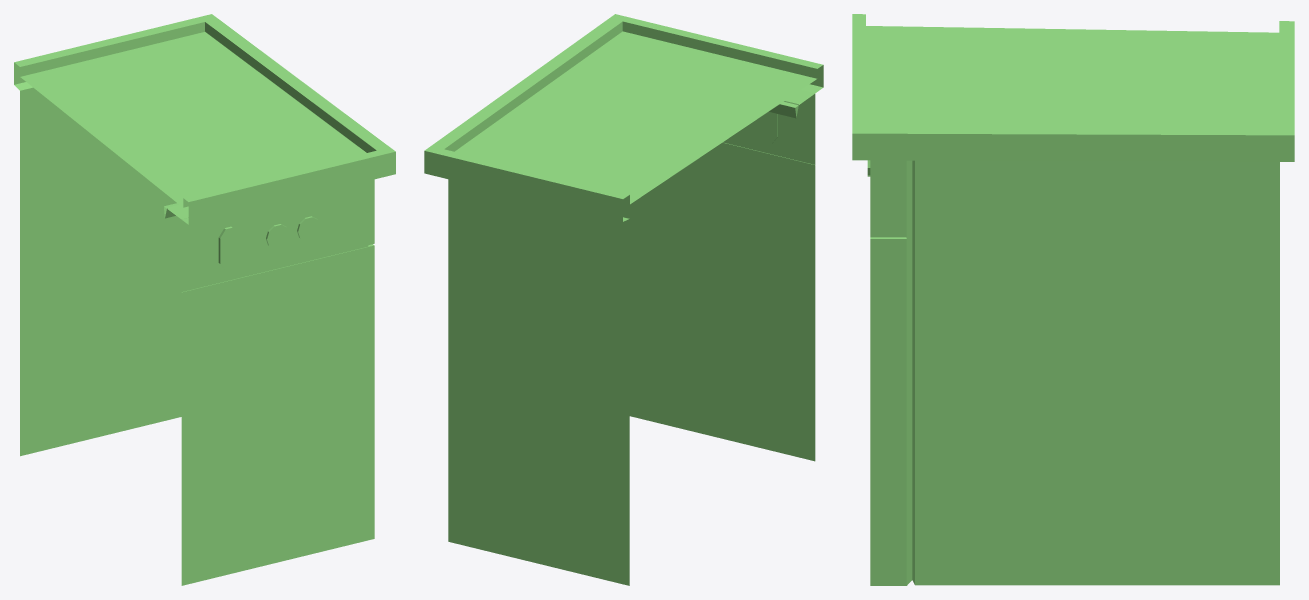
3 renders of one model, left to right at view 1: azimuth 30°, elevation 25°; view 2: azimuth 150°, elevation 25°; view 3: azimuth 270°, elevation 25°, orthographic. The views are drawn at different scales.
Visible parts, largest first — view 1: polySurface6; view 2: polySurface6; view 3: polySurface6.
Boxes of the visible parts, box(x1,y1,x2,y2) form: polySurface6: box(14, 14, 395, 585); polySurface6: box(424, 14, 823, 585); polySurface6: box(852, 14, 1294, 585).
Size of the model in its own units: 2.77 by 4.89 by 4.26.
